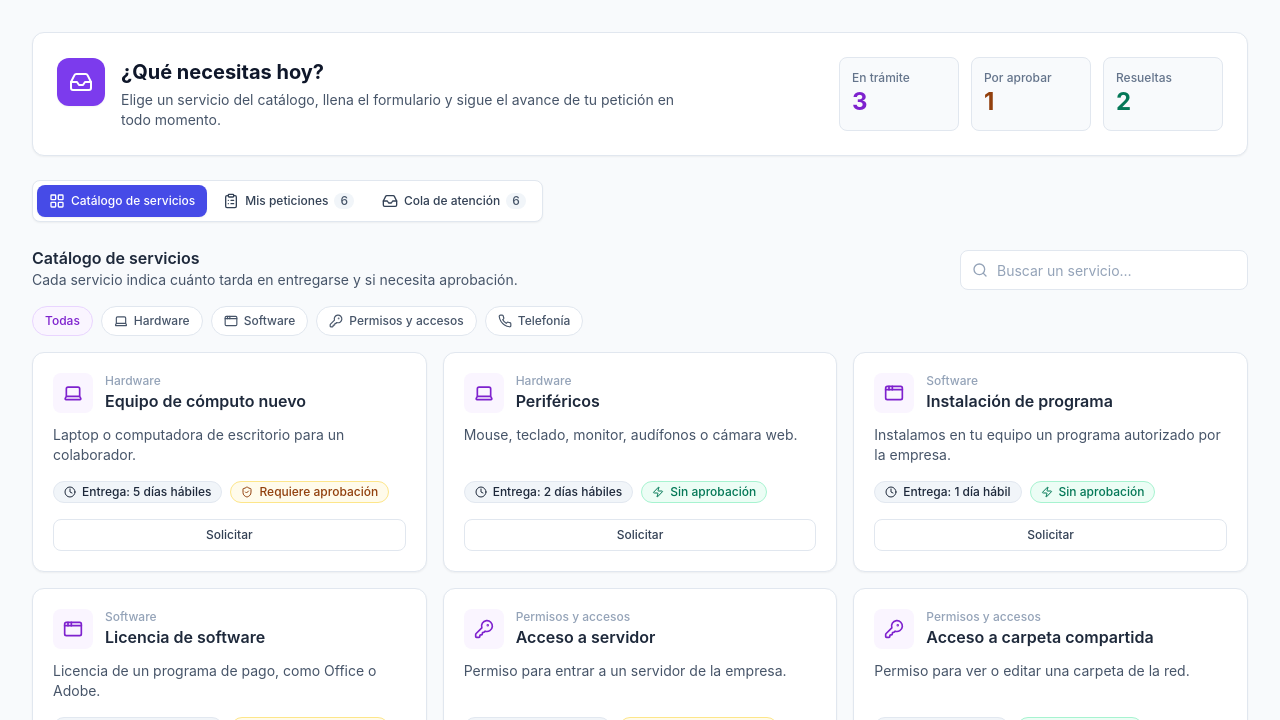
Test: RequestsPage › filtra la cola por estado
Click the button "Cola de atención 6".
click(454, 201)  # box [370,185,538,217]
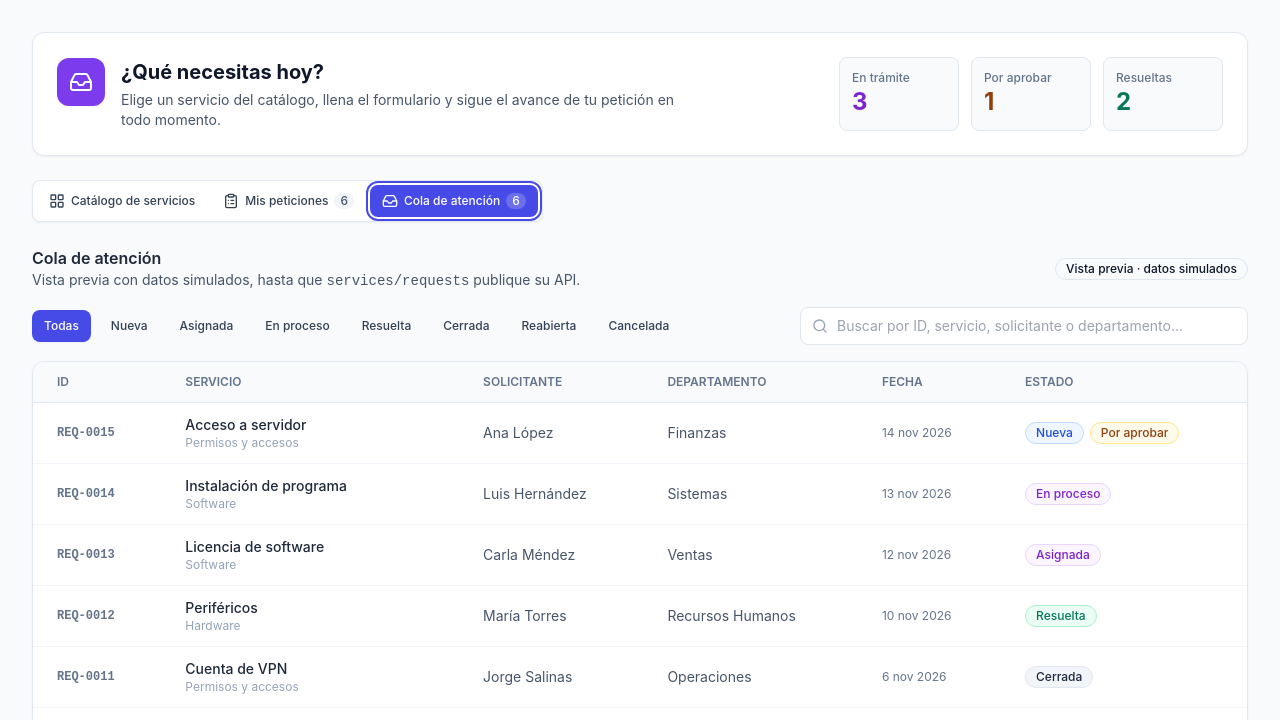
Now the text "REQ-0015" is shown, box [33,402,161,464]
Now the text "REQ-0014" is shown, box [33,464,161,524]
Click the button "Nueva".
click(129, 326)  # box [99,310,160,342]
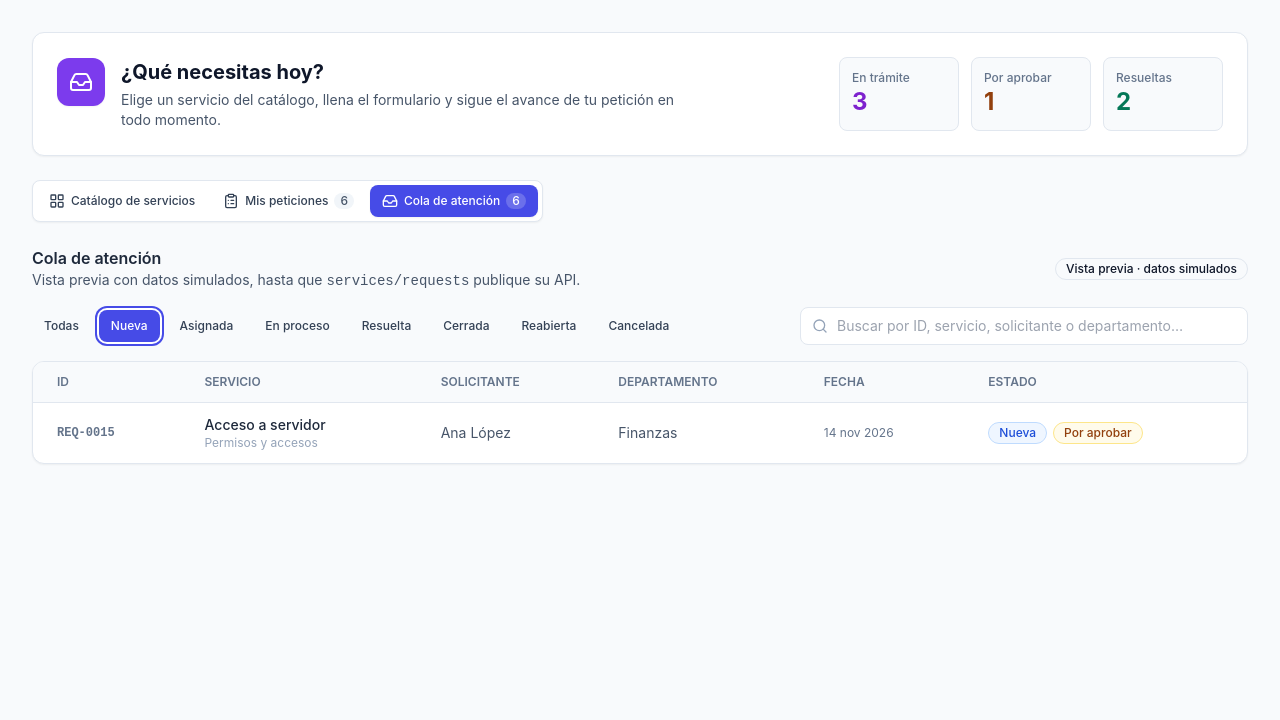
Now the text "REQ-0015" is shown, box [33,402,180,463]
Now the text "Por aprobar" in the row of "REQ-0015" is shown, box [1064,425,1132,440]
Now the text "REQ-0014" is gone
